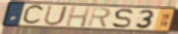3: (135, 9, 156, 30)
C: (21, 4, 46, 26)
H: (64, 5, 92, 28)
R: (86, 7, 112, 28)
S: (111, 8, 135, 30)
U: (42, 5, 70, 27)
